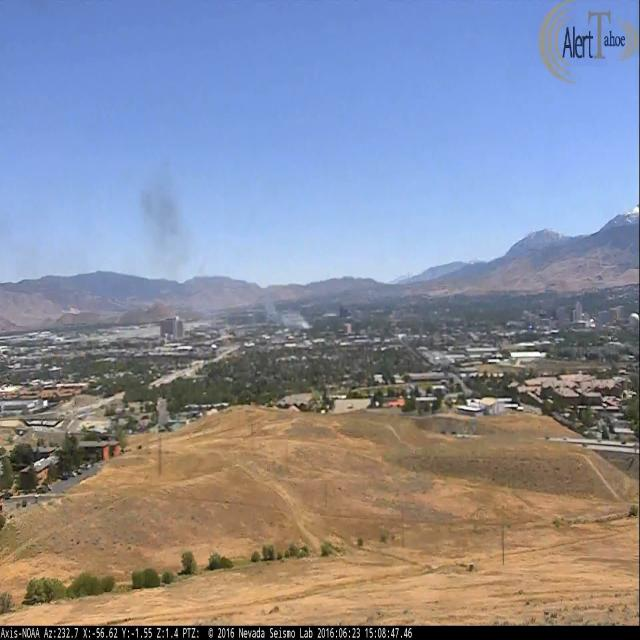smoke: (142, 184, 313, 330)
